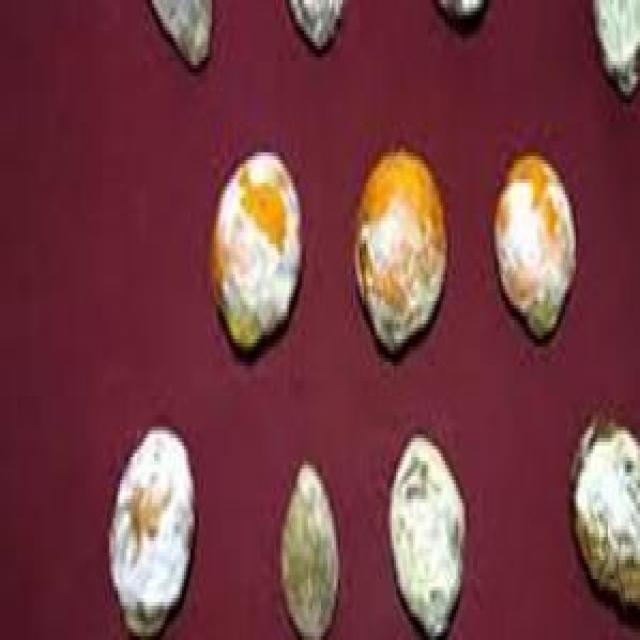damaged: (351, 149, 449, 366), (208, 152, 304, 366), (109, 430, 199, 636), (385, 430, 469, 636), (492, 152, 580, 347), (567, 415, 638, 629), (278, 465, 342, 636)
